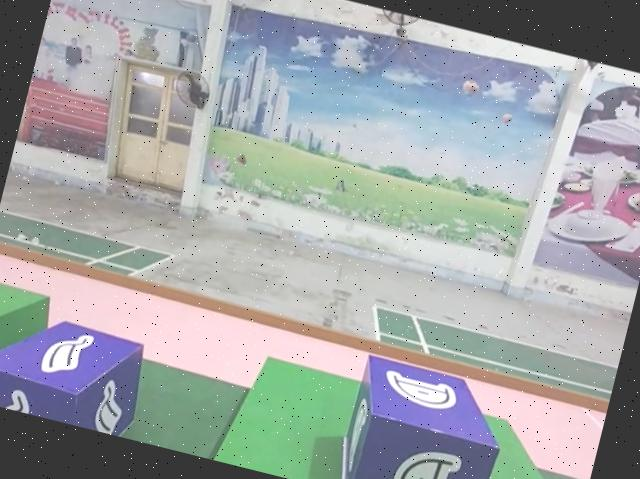R2 Real Blue: (334, 354, 513, 479), (0, 301, 154, 439)
